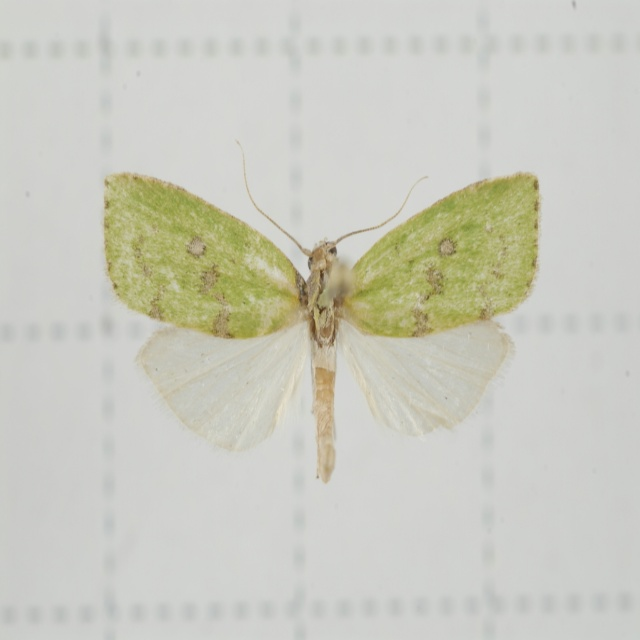Butterfly: (104, 141, 540, 484)
